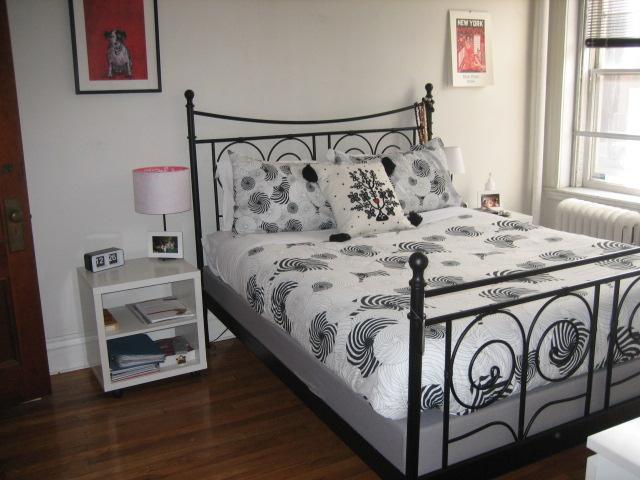Cama: (183, 75, 639, 460)
